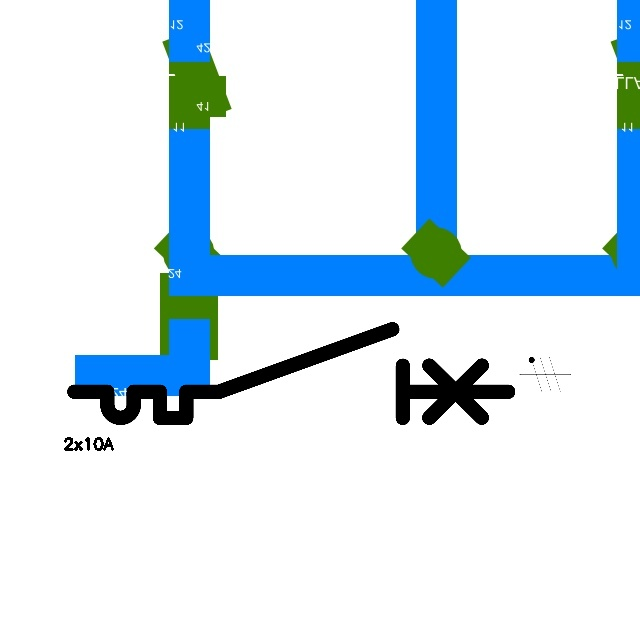interruptor_termomagnetico: (63, 318, 519, 429)
